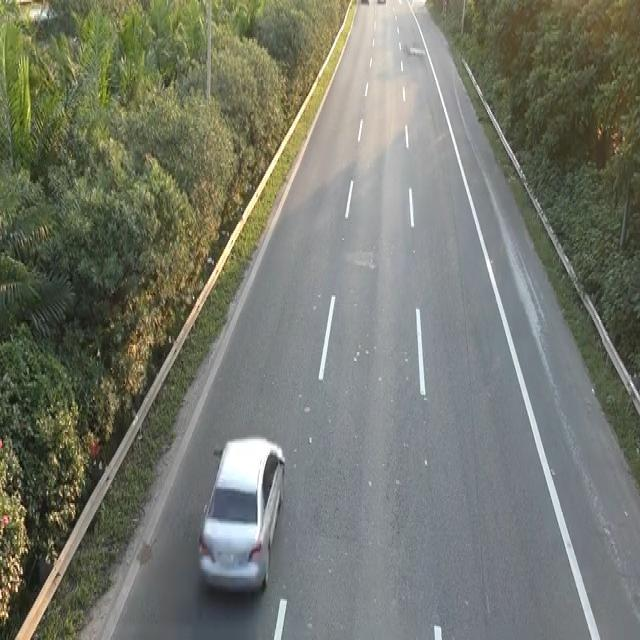bus: (195, 430, 287, 598)
